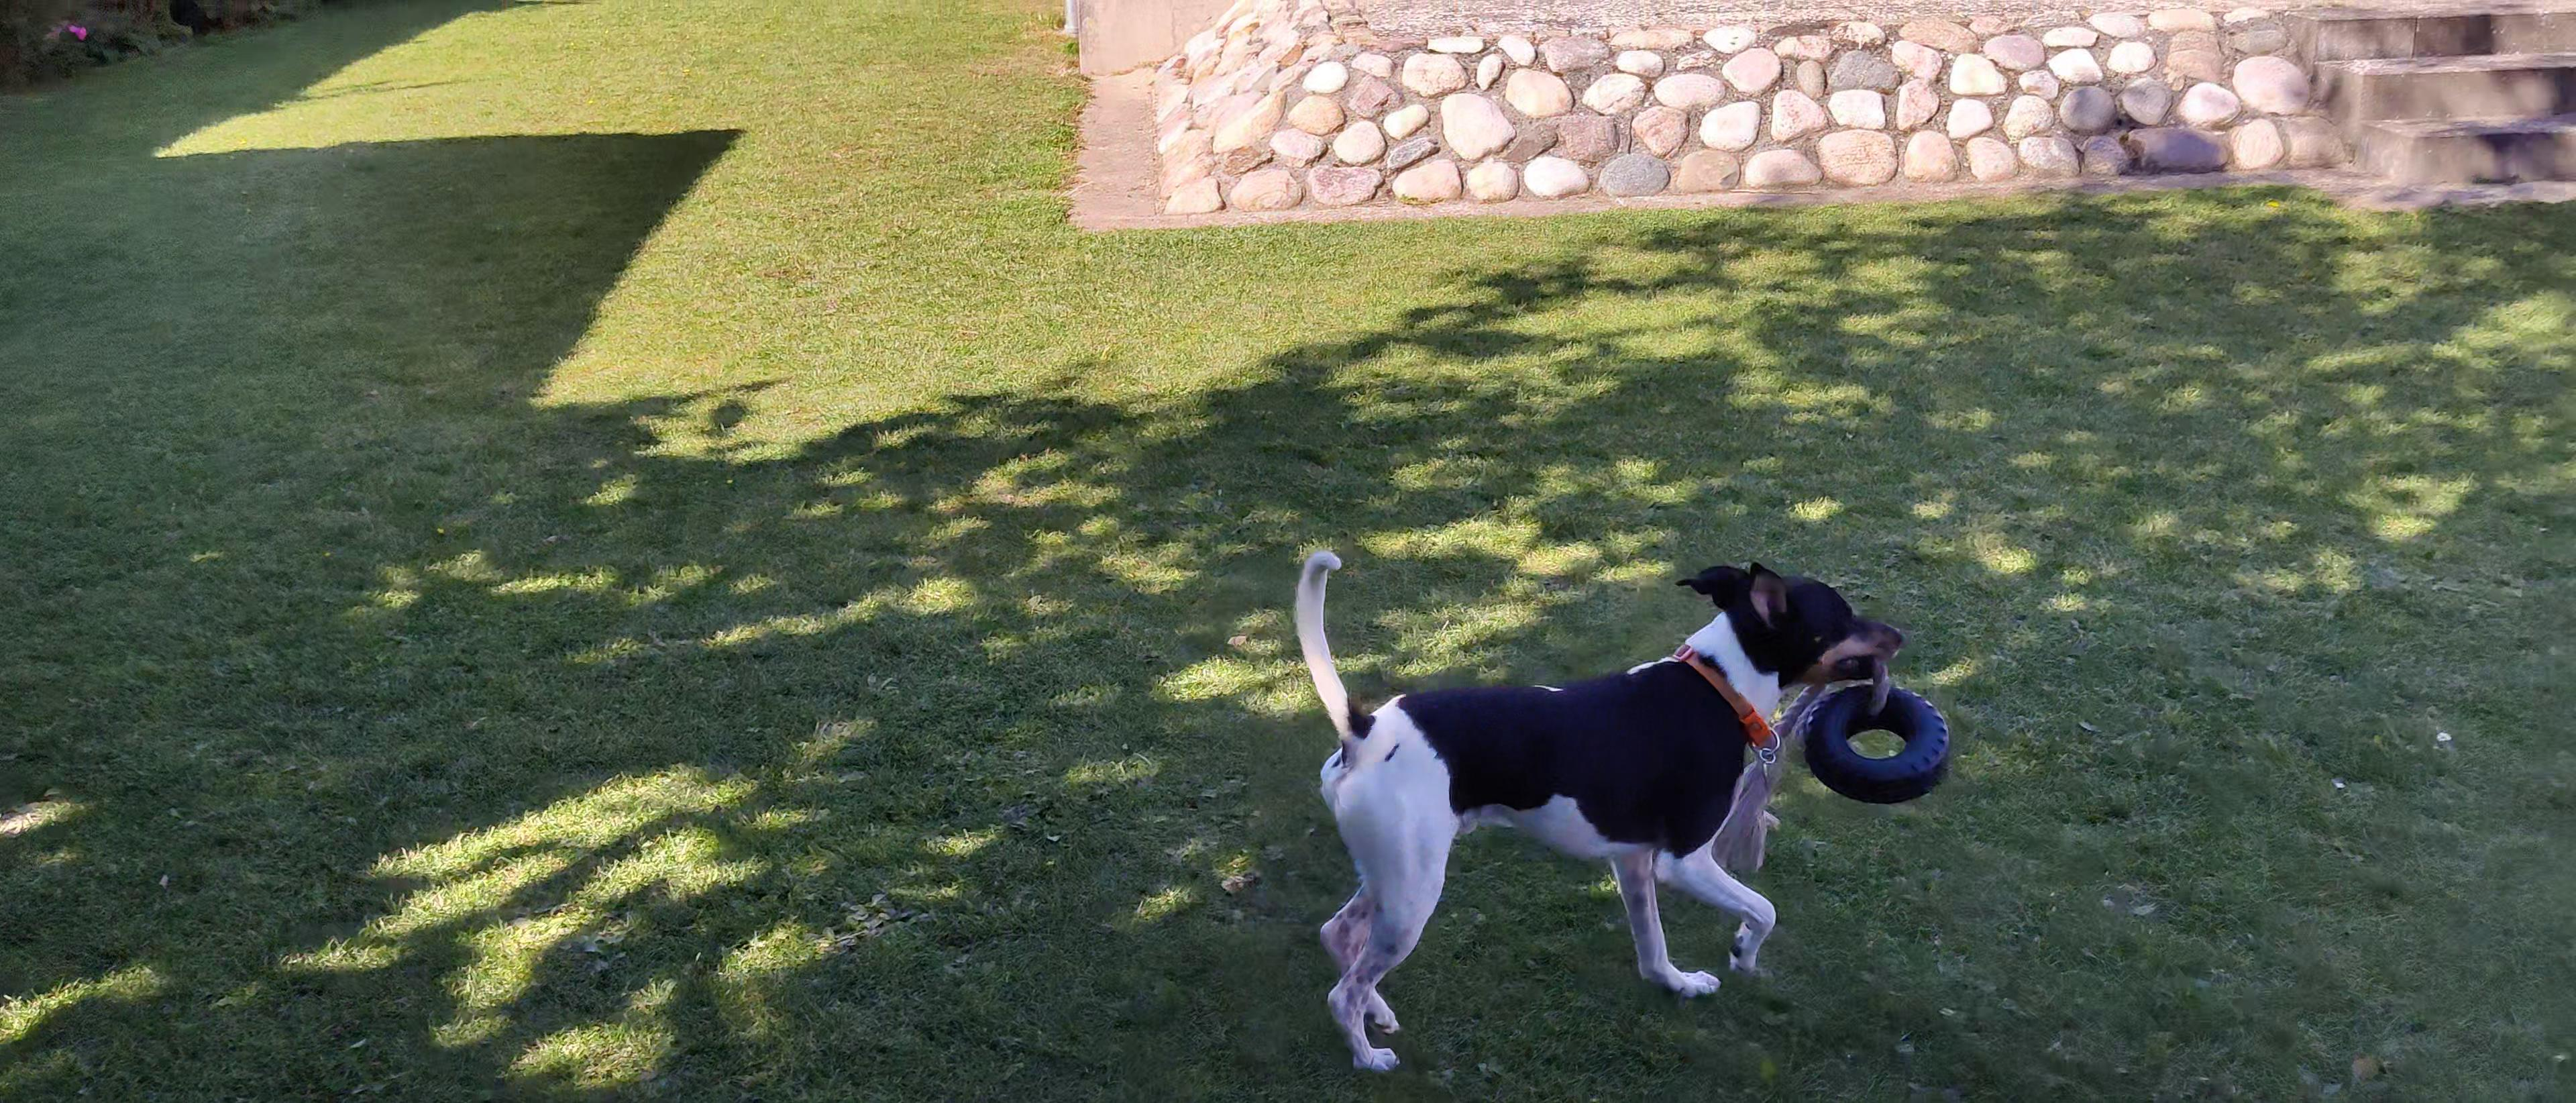Dog: (1278, 513, 1914, 1077)
